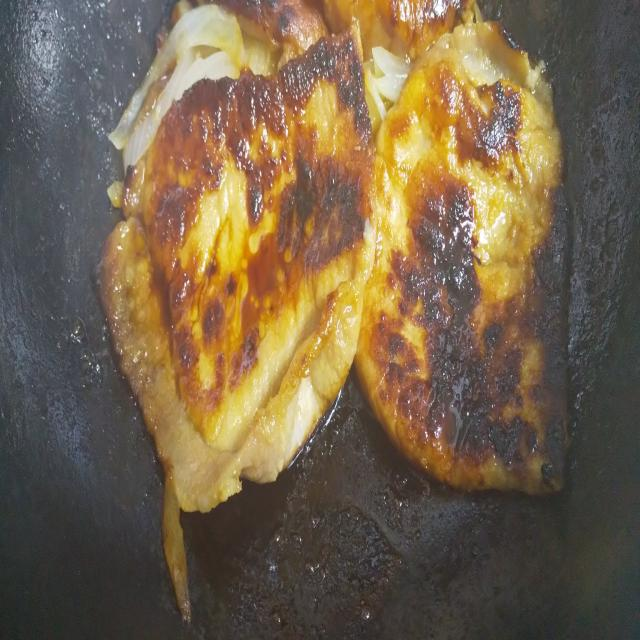overcooked pork: (84, 13, 380, 633), (361, 33, 569, 513)
